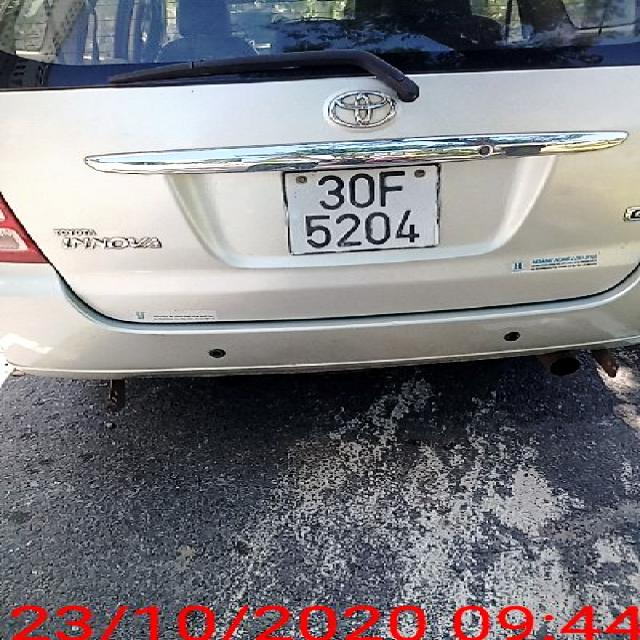license_plate: (289, 165, 441, 252)
